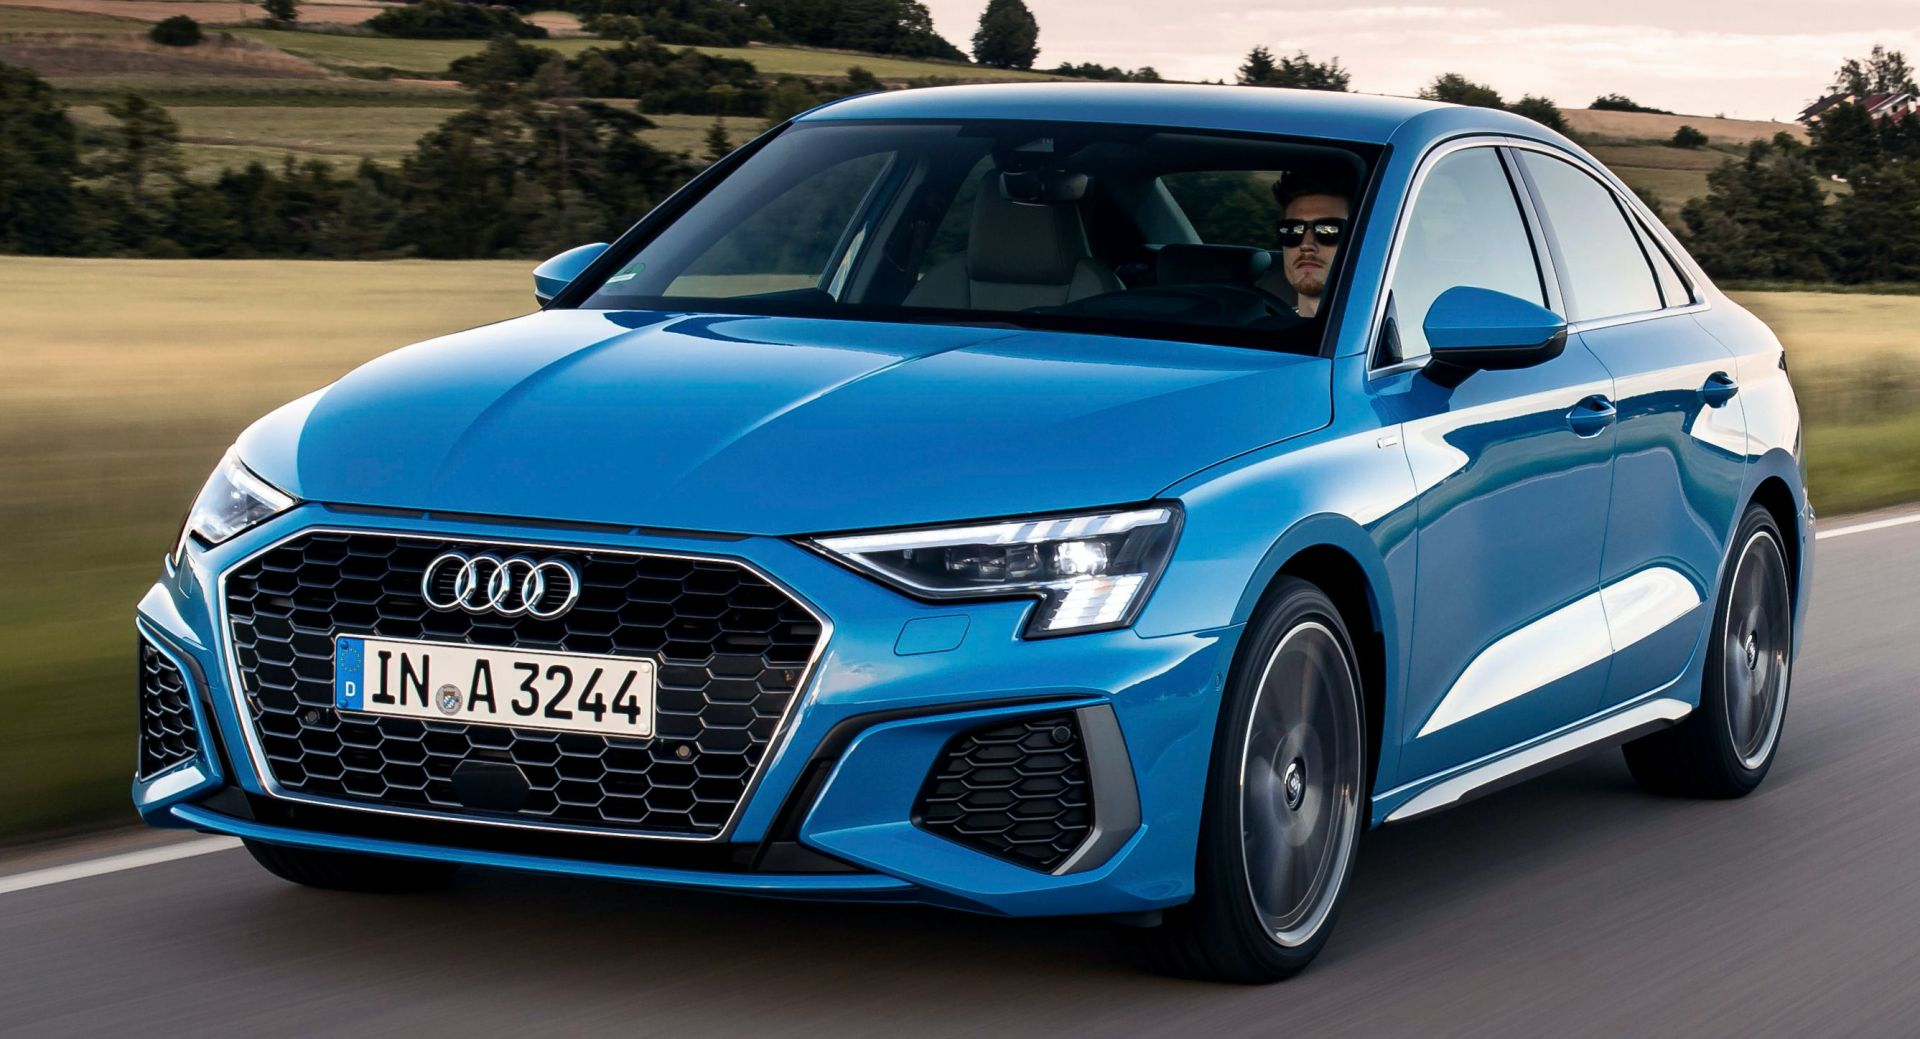car: (127, 82, 1816, 987)
